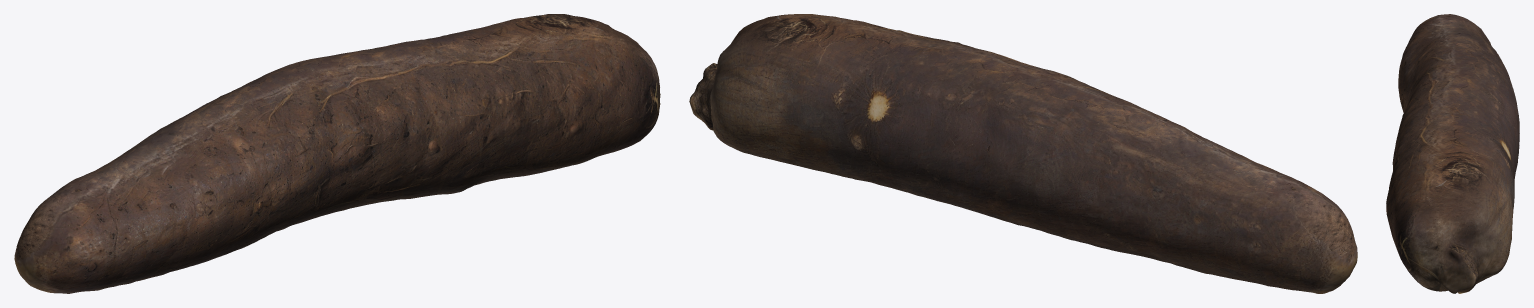
Rendered from yucca_0807131633_texture.fbx.
The picture shows the model from 3 angles, left to right: view 1: azimuth 30°, elevation 25°; view 2: azimuth 150°, elevation 25°; view 3: azimuth 270°, elevation 25°; orthographic projection. The views are drawn at different scales.
Visible parts, largest first — view 1: input; view 2: input; view 3: input.
Boxes of the visible parts, x1,y1,x2,y2 form: input: [14, 14, 660, 293]; input: [689, 14, 1357, 293]; input: [1386, 14, 1519, 293].
Size of the model in its own units: 198 by 46.19 by 44.93.
1 material, 1 textured.
